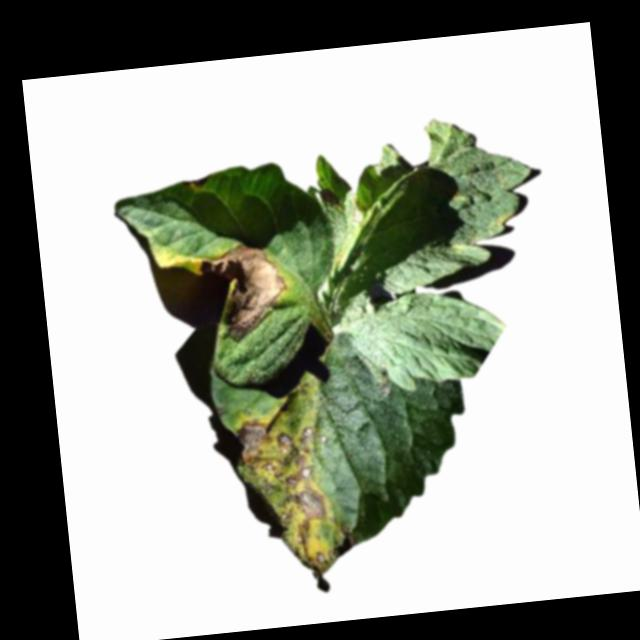Early_blight: (232, 407, 358, 584), (191, 241, 293, 347), (320, 187, 340, 210), (184, 173, 210, 190)
